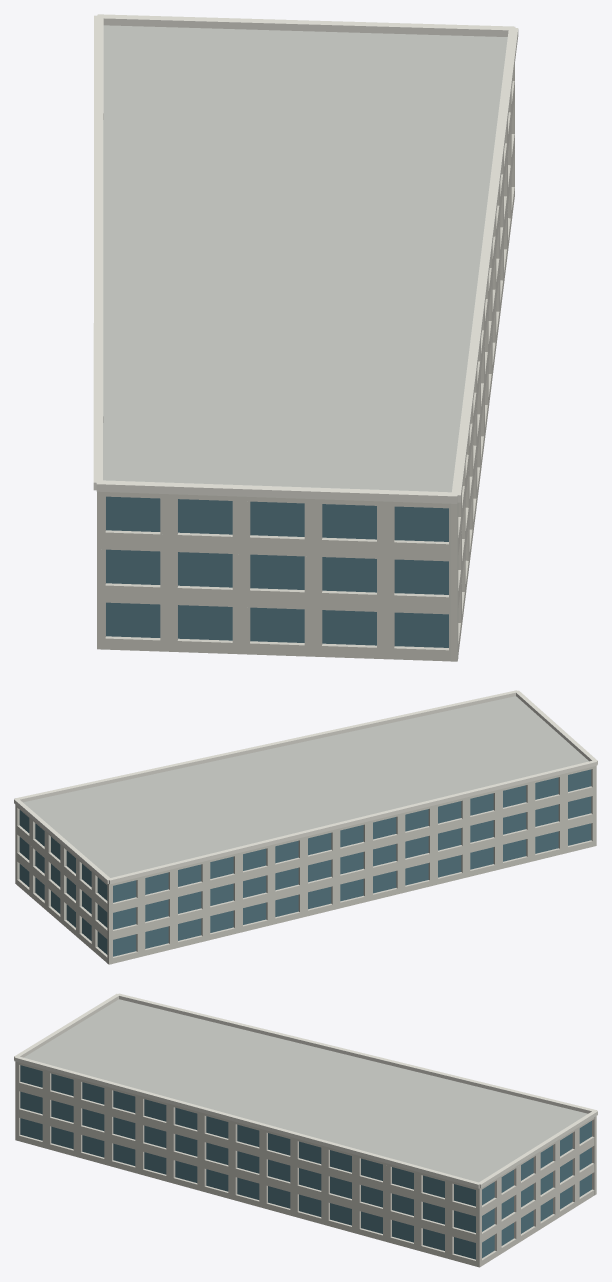
The model's file is sb_1556523933.far.glb.
3 renders of one model, top to bottom at view 1: azimuth 30°, elevation 25°; view 2: azimuth 150°, elevation 25°; view 3: azimuth 270°, elevation 25°, orthographic. The views are drawn at different scales.
Parts seen in each view (by area): view 1: roof, wall, glass, trim; view 2: roof, wall, glass, trim; view 3: roof, wall, glass, trim.
Part boxes in pixels (box(x1,y1,x2,y2)): roof: box(103, 25, 507, 492); wall: box(97, 64, 514, 661); glass: box(106, 496, 448, 647); trim: box(93, 14, 518, 503); roof: box(23, 696, 588, 877); wall: box(15, 766, 596, 964); glass: box(19, 769, 591, 956); trim: box(14, 690, 597, 884); roof: box(24, 999, 587, 1182); wall: box(15, 1061, 596, 1267); glass: box(20, 1065, 591, 1259); trim: box(14, 993, 597, 1188).
Size of the model in its own units: 48.02 by 9.74 by 61.91.
